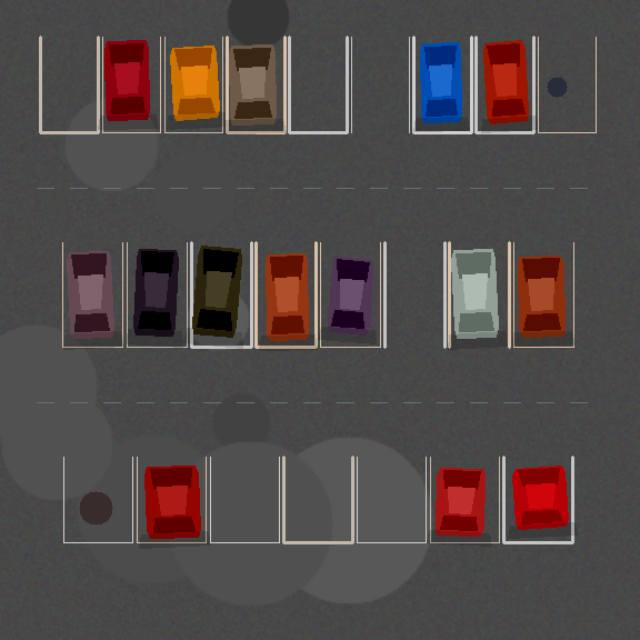space-empty: (384, 242, 444, 347), (63, 457, 132, 542), (210, 457, 279, 542), (283, 457, 352, 542), (357, 457, 426, 542), (40, 37, 98, 132), (289, 37, 347, 132), (351, 37, 409, 132), (538, 37, 596, 132)
space-occupied: (62, 242, 122, 347), (127, 242, 187, 347), (191, 242, 251, 347), (256, 242, 316, 347), (320, 242, 380, 347), (449, 242, 509, 347), (513, 242, 573, 347), (137, 457, 206, 542), (430, 457, 499, 542), (503, 457, 572, 542), (102, 37, 160, 132), (164, 37, 222, 132), (413, 37, 471, 132), (227, 37, 284, 132), (476, 37, 533, 132)
